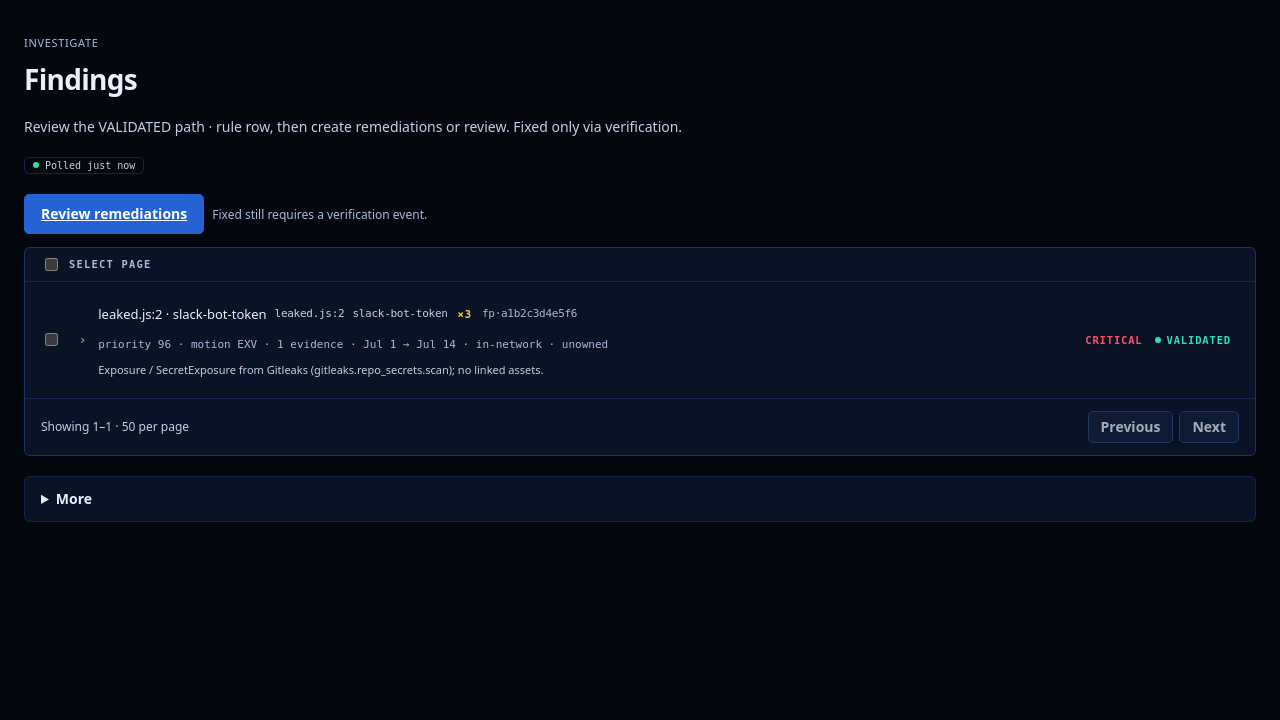
Test: FindingsWorkbench v2 › P2-FINDINGSMALL: first-hour Gitleaks chrome is the VALIDATED path·rule row + one next verb
The width and height of the screenshot is (1280, 720).
Expected: the text "leaked.js:2 · slack-bot-token" is shown, [98,305,266,323]
Expected: the text "Validated" is shown, [1152,332,1233,348]
Click the heading with test id "findings-more-summary" at (74, 498), box [56,488,92,508]
(page scrolled)
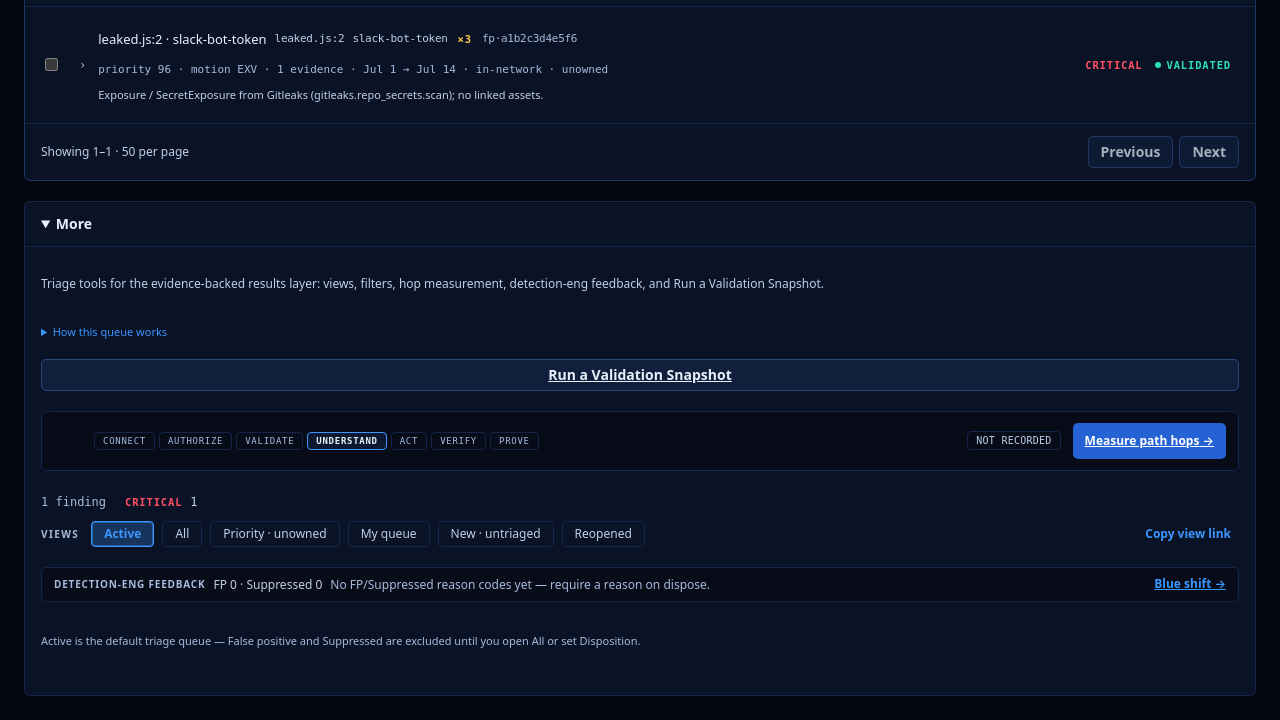
Expected: the link "Measure path hops →" is shown, [1073,422,1226,458]
Expected: the message named "Disposition feedback summary" shows "Detection-eng feedback", [54,577,206,591]
Expected: the button with test id "findings-view-active" is shown, [91,520,154,546]
